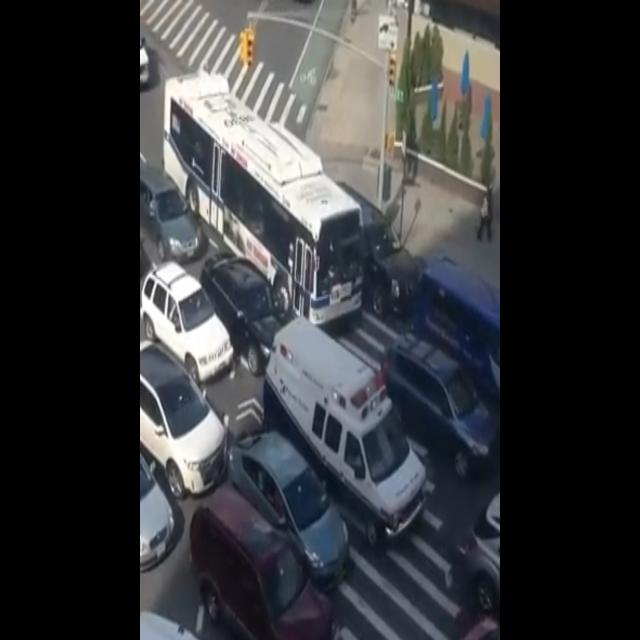Ambulance: (262, 295, 424, 544)
